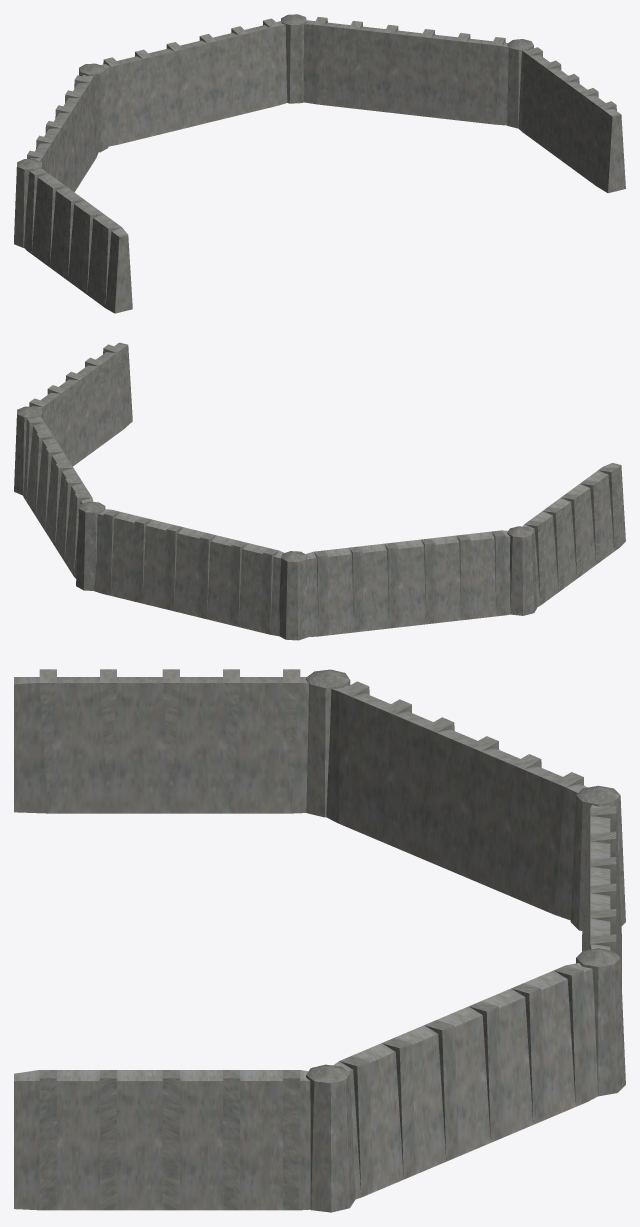
Rendered from poi_all_impl_corral_half_64x64_s01_l1.fbx.
3 renders of one model, top to bottom at view 1: azimuth 30°, elevation 25°; view 2: azimuth 150°, elevation 25°; view 3: azimuth 270°, elevation 25°, orthographic. The views are drawn at different scales.
Visible parts, largest first — view 1: mesh_node; view 2: mesh_node; view 3: mesh_node.
Part boxes in pixels (x1,y1,x2,y2): mesh_node: [14, 14, 625, 313]; mesh_node: [14, 342, 625, 640]; mesh_node: [14, 669, 625, 1212].
Size of the model in its own units: 43.23 by 6.5 by 26.73.
